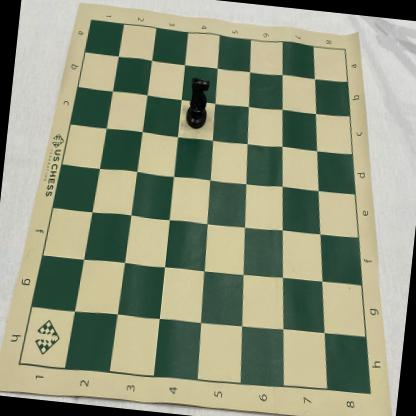knight: (184, 75, 212, 131)
